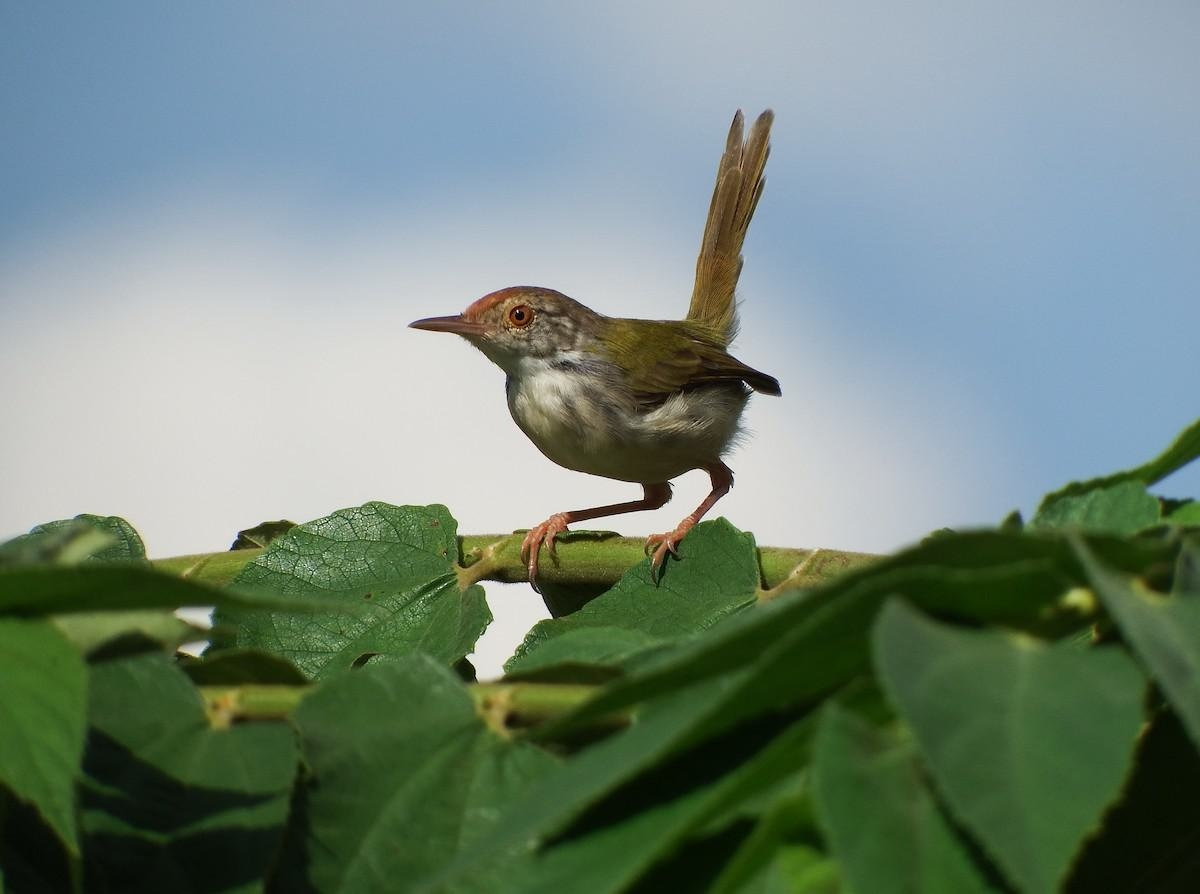tailorbird: (426, 107, 786, 558)
